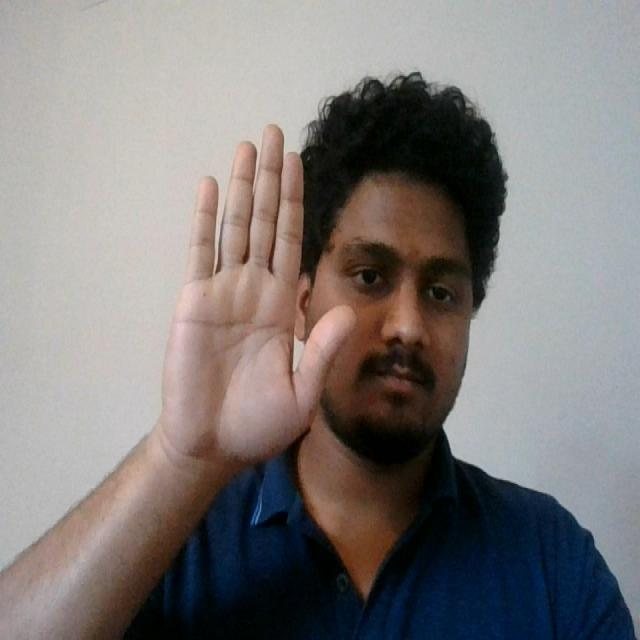Hello: (154, 119, 360, 484)
